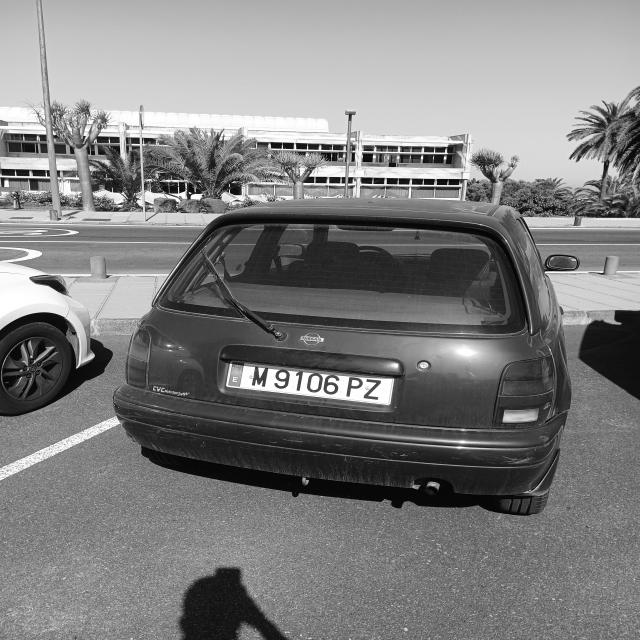football: (225, 360, 398, 405)
